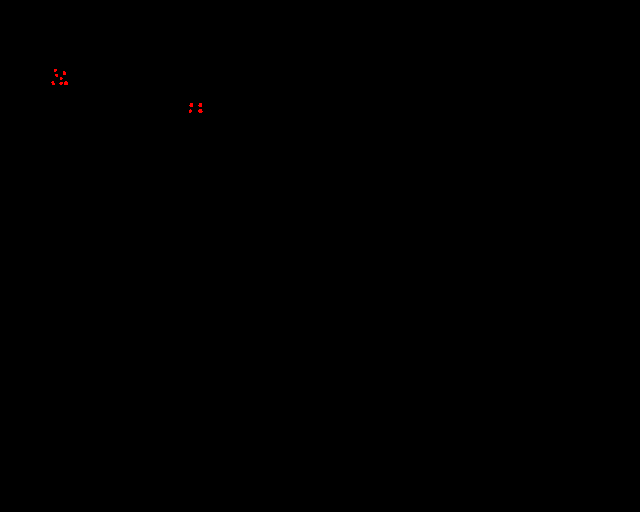Target: (198, 109, 203, 113), (51, 81, 55, 85), (64, 81, 68, 85), (189, 103, 193, 107), (198, 103, 202, 107), (63, 71, 66, 75), (59, 82, 63, 85), (189, 109, 192, 113), (54, 69, 57, 72), (55, 74, 58, 77), (60, 77, 63, 80)
